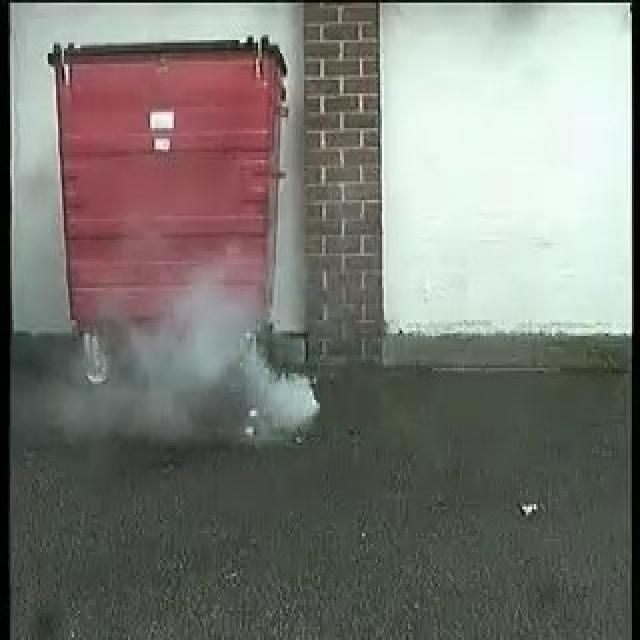smoke: (98, 290, 320, 448)
